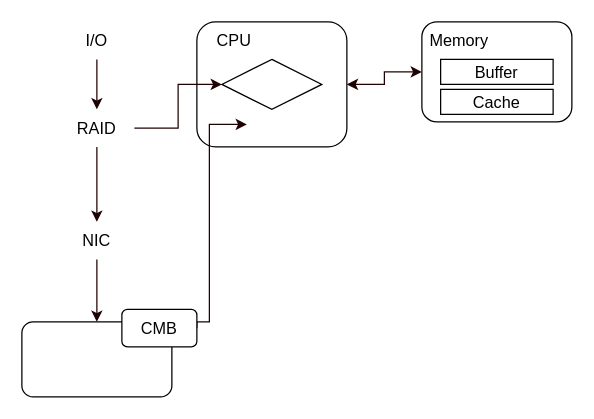
Some shapes in this 594 by 419 pixel diagram are drawn without their labels. The shapes that lost their labels are listed below. From the top down, each one's box as (x1, y1, x2, y2) in pixels, then its label:
(221, 58, 322, 109): XOR
(21, 321, 172, 397): NVMe SSD
